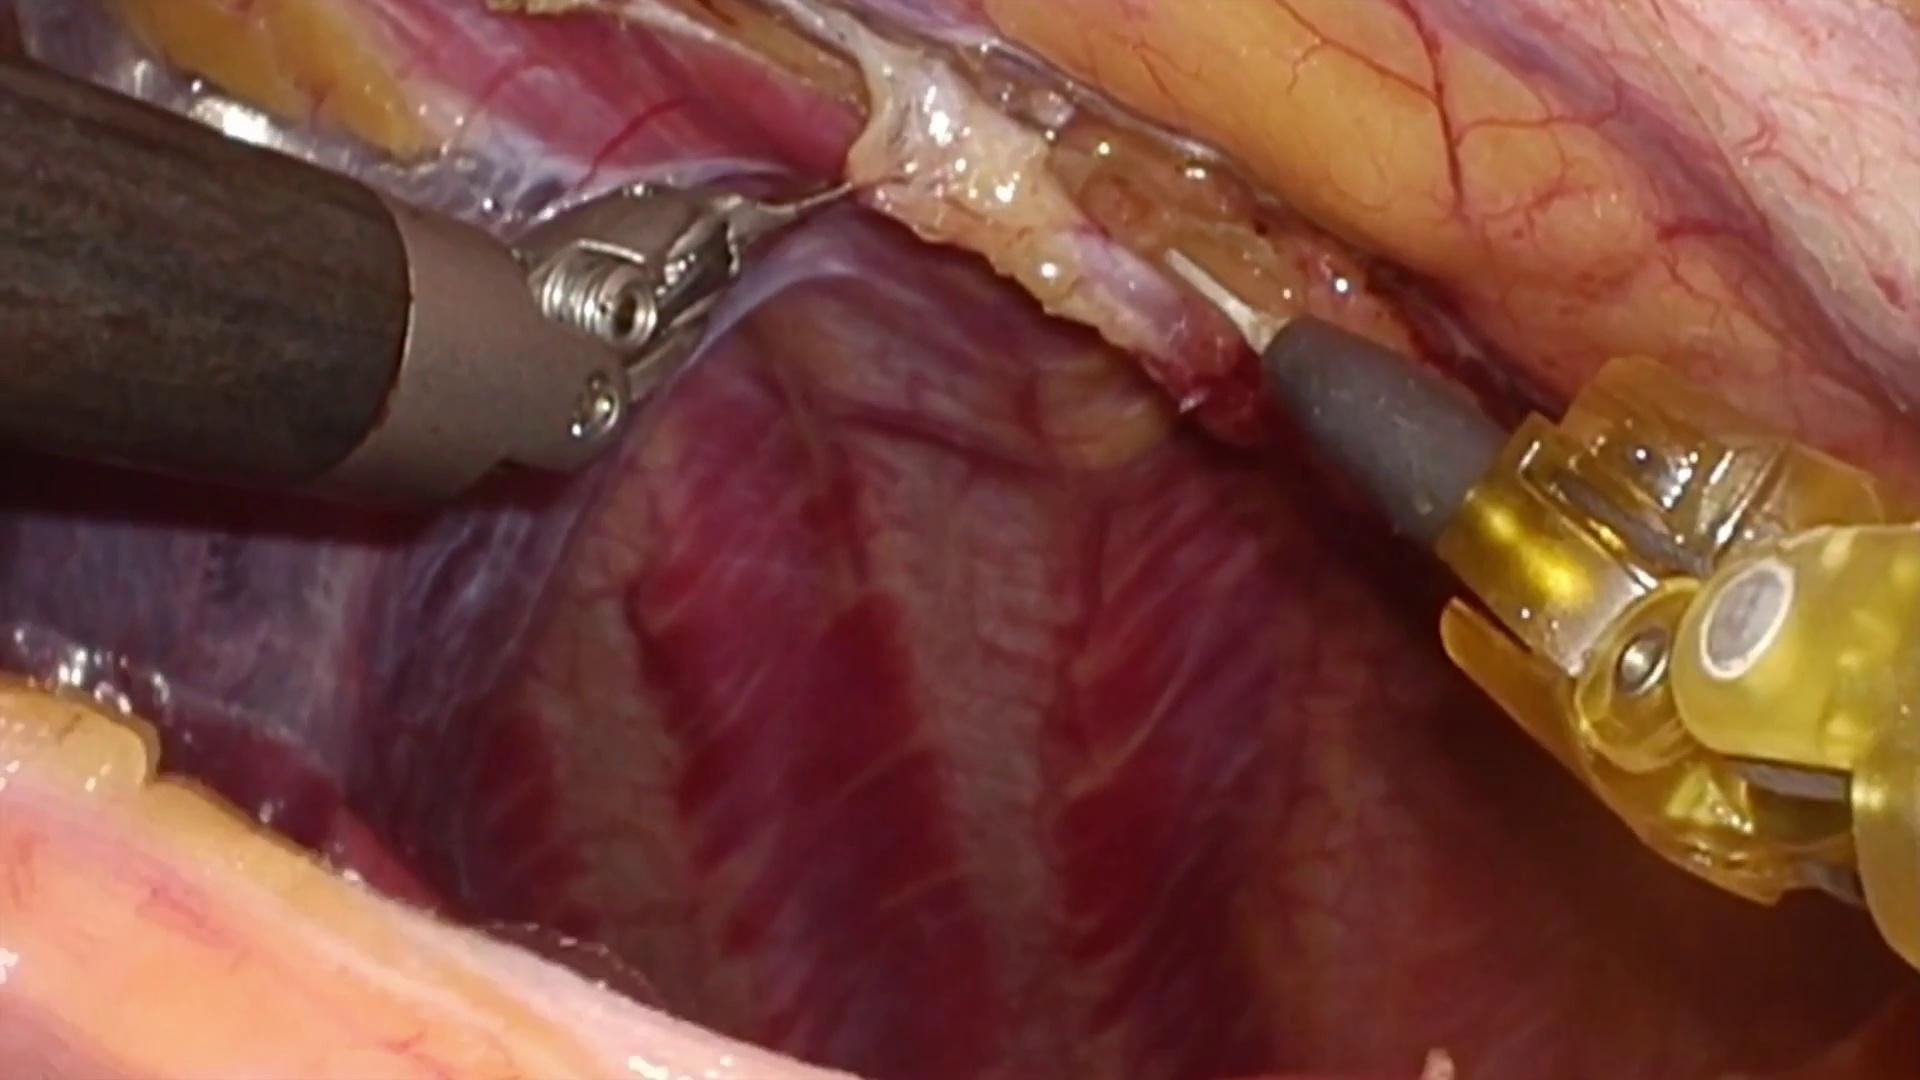Cautery_Spatula: (1154, 240, 1507, 554)
Debakey: (702, 173, 880, 265)
